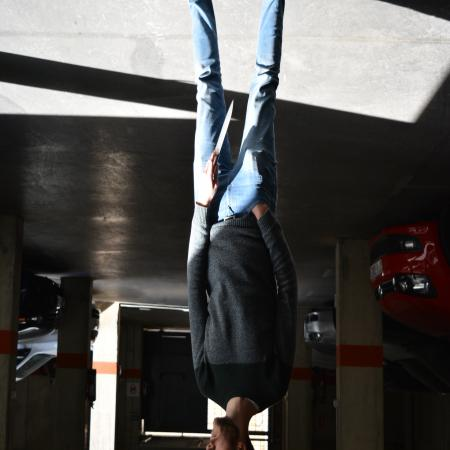long weapon: (208, 96, 235, 178)
